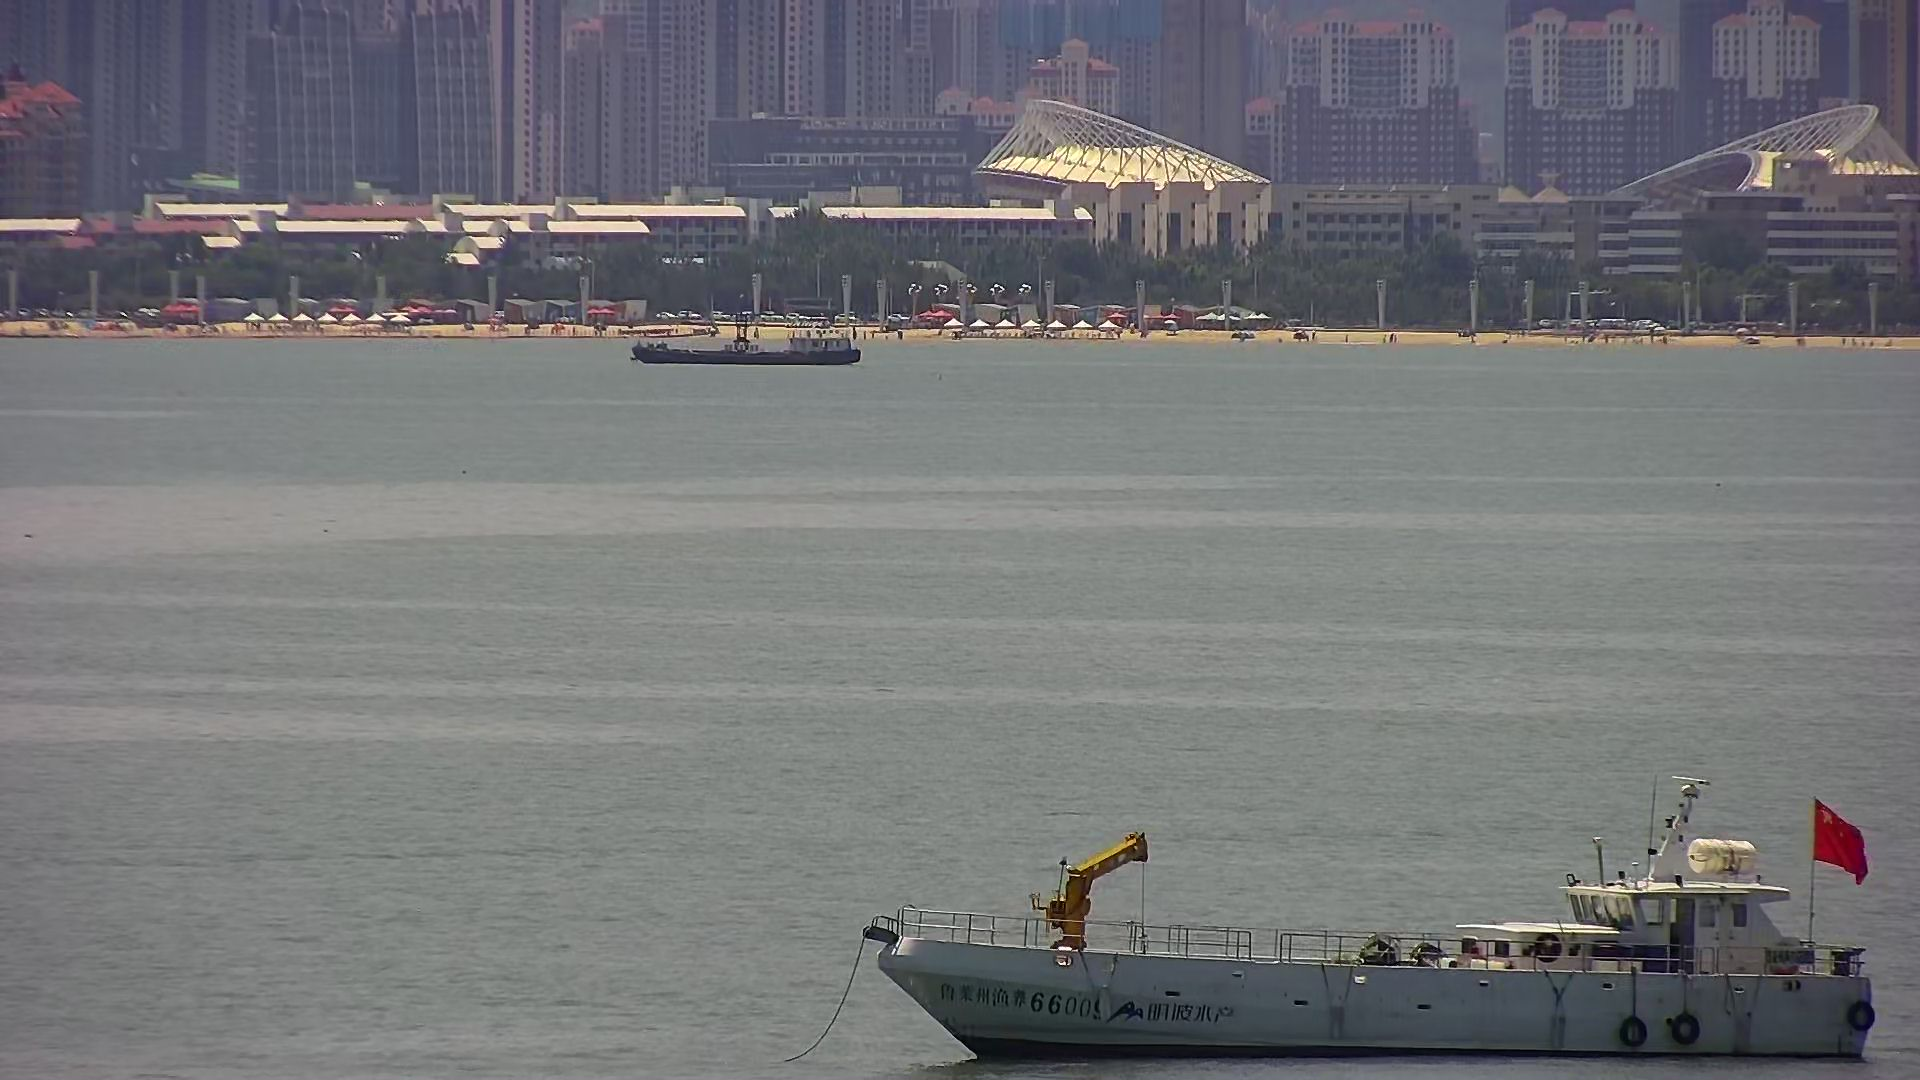ship: (793, 771, 1884, 1072), (630, 295, 869, 367)
